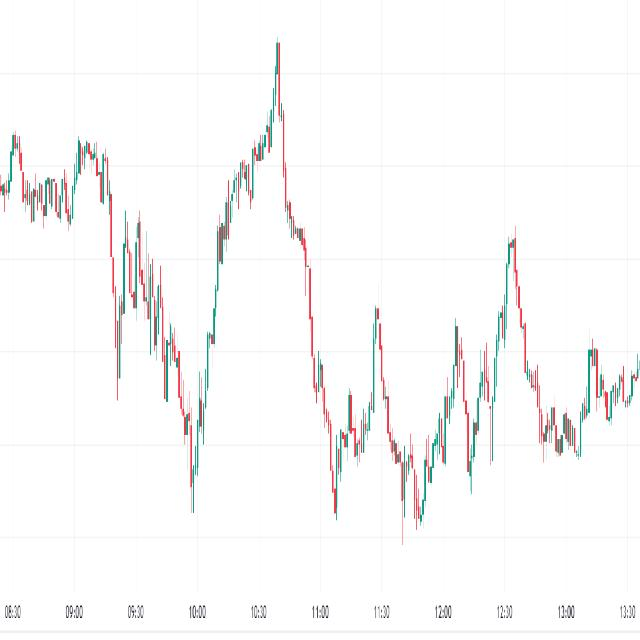Head-Shoulders: (198, 22, 334, 496), (336, 244, 422, 521)
